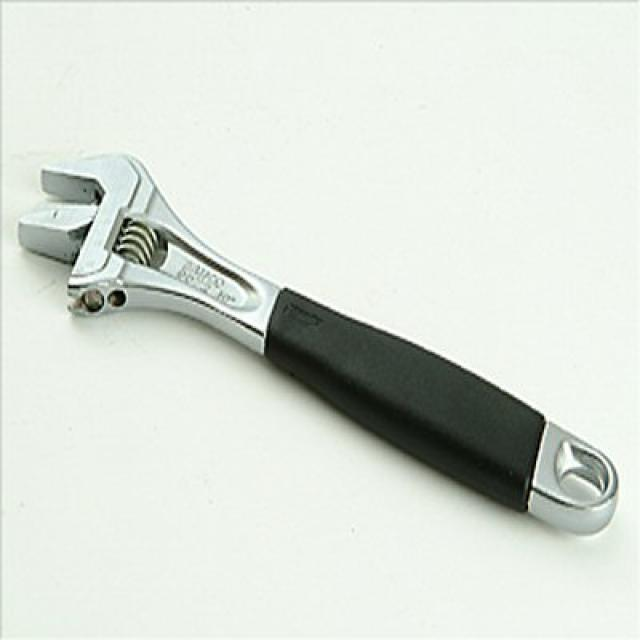wrench: (15, 106, 614, 555)
